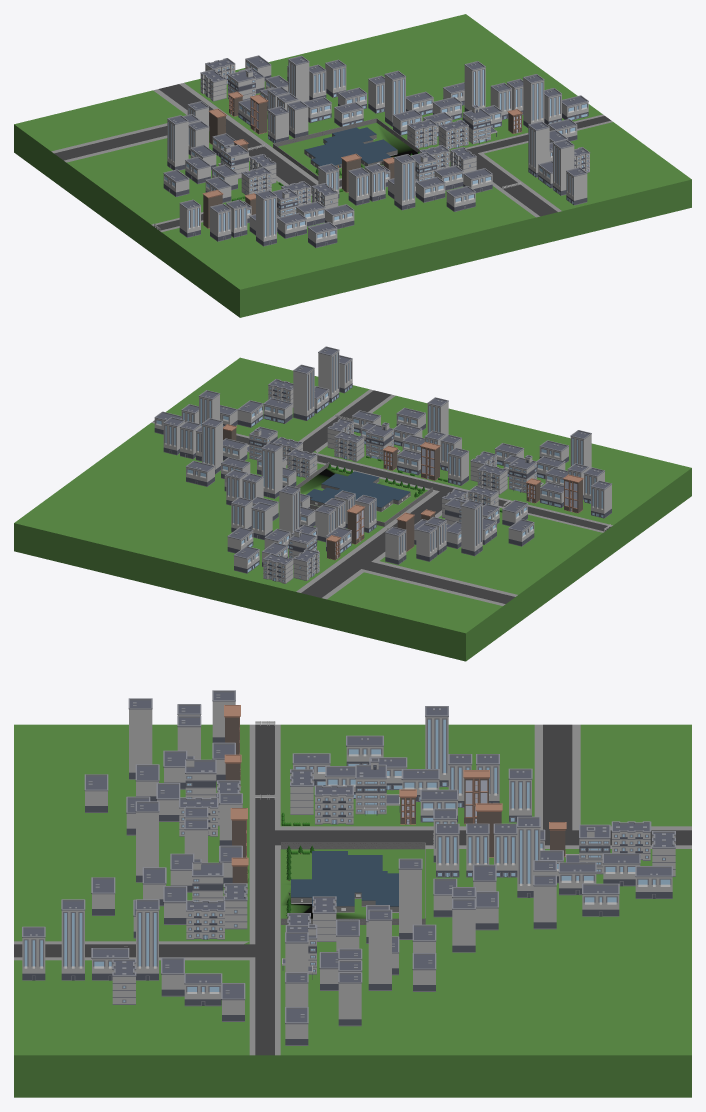
Rendered from Level 1 map.fbx.
3 views of the same model, one above another, from view 1: azimuth 30°, elevation 25°; view 2: azimuth 150°, elevation 25°; view 3: azimuth 270°, elevation 25° (orthographic). The views are drawn at different scales.
Parts seen in each view (by area): view 1: Ground, Roof, Yard.001, skyscraperF.025, skyscraperF.042, skyscraperF.052, skyscraperF, skyscraperF.031, skyscraperF.017, skyscraperF.029, skyscraperF.008, skyscraperF.062 (+43 smaller); view 2: Ground, Roof, skyscraperF.042, skyscraperF.031, Yard.001, skyscraperF.008, skyscraperF.029, skyscraperF.017, skyscraperF.062, large_buildingG.003, large_buildingG.001, large_buildingA.010 (+37 smaller); view 3: Ground, Roof, Yard.001, skyscraperF.017, skyscraperF.029, skyscraperF.031, large_buildingG.002, skyscraperF.008, skyscraperF.052, skyscraperF.062, skyscraperF.042, skyscraperF.025 (+63 smaller).
Boxes of the visible parts, box(x1,y1,x2,y2) form: Ground: box(14, 14, 691, 317); Roof: box(304, 127, 397, 166); Yard.001: box(278, 122, 417, 178); skyscraperF.025: box(394, 154, 415, 210); skyscraperF.042: box(167, 115, 188, 170); skyscraperF.052: box(255, 190, 276, 246); skyscraperF: box(523, 74, 544, 127); skyscraperF.031: box(528, 121, 549, 177); skyscraperF.017: box(464, 61, 485, 111); skyscraperF.029: box(553, 139, 574, 195); skyscraperF.008: box(384, 70, 406, 127); skyscraperF.062: box(288, 55, 309, 101); Ground: box(14, 357, 691, 661); Roof: box(306, 471, 410, 507); skyscraperF.042: box(461, 499, 482, 556); skyscraperF.031: box(293, 364, 314, 420); Yard.001: box(300, 466, 427, 522); skyscraperF.008: box(261, 442, 282, 498); skyscraperF.029: box(318, 346, 339, 402); skyscraperF.017: box(202, 418, 223, 474); skyscraperF.062: box(279, 485, 300, 537); large_buildingG.003: box(508, 455, 543, 493); large_buildingG.001: box(365, 422, 400, 460); large_buildingA.010: box(263, 553, 293, 583); Ground: box(14, 724, 691, 1097); Roof: box(291, 851, 398, 906); Yard.001: box(280, 849, 424, 924); skyscraperF.017: box(368, 909, 392, 990); skyscraperF.029: box(61, 899, 85, 980); skyscraperF.031: box(135, 899, 159, 980); large_buildingG.002: box(355, 758, 399, 815); skyscraperF.008: box(398, 858, 422, 939); skyscraperF.052: box(128, 698, 152, 779); skyscraperF.062: box(517, 816, 540, 897); skyscraperF.042: box(425, 706, 448, 787); skyscraperF.025: box(135, 801, 159, 882).
Size of the model in its own units: 337 by 54.05 by 292.
